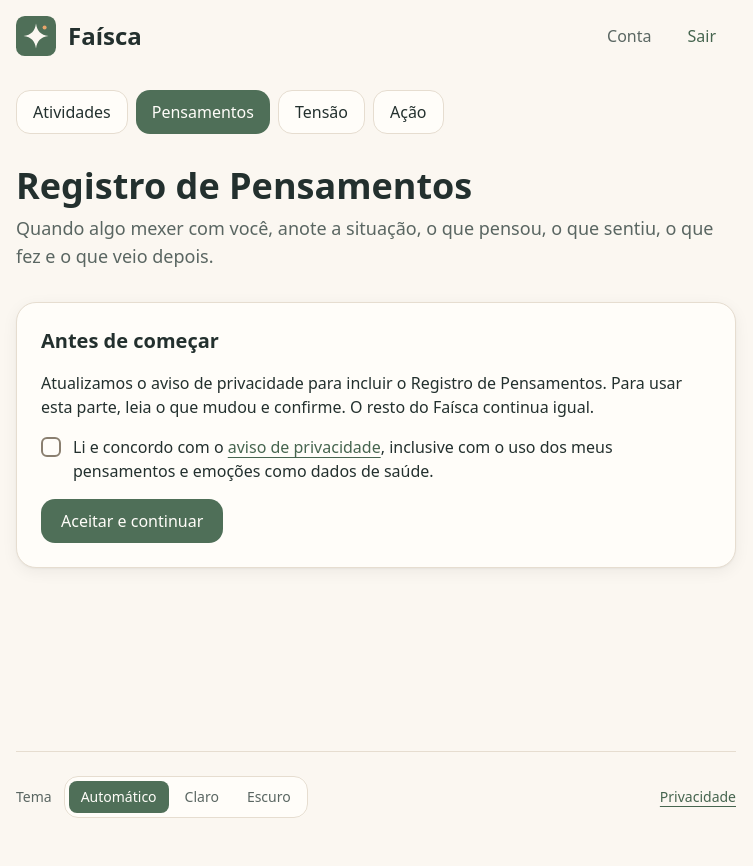
Test: novo aceite do aviso de privacidade (DEC-039) › sem marcar a caixa, não envia; marcando, aceita e libera a lista
Step 1. Click the button "Aceitar e continuar" → (132, 521), box x1=41 y1=499 x2=223 y2=543
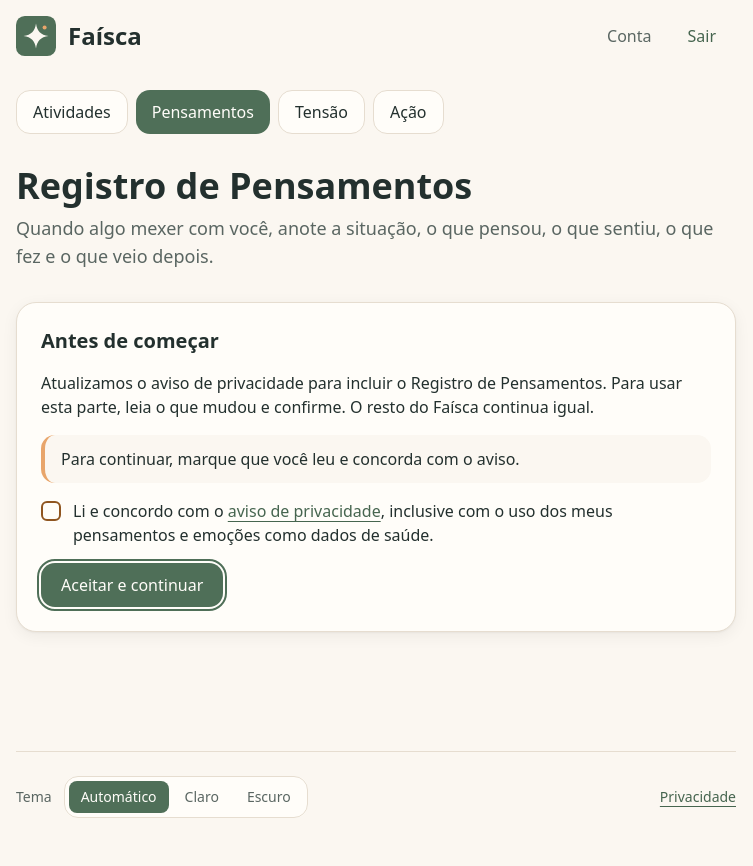
Expected: the text "Para continuar, marque que você leu e concorda com o aviso." is shown, x1=41 y1=435 x2=711 y2=483
Step 2. Click the checkbox → (51, 511), box x1=41 y1=501 x2=61 y2=521
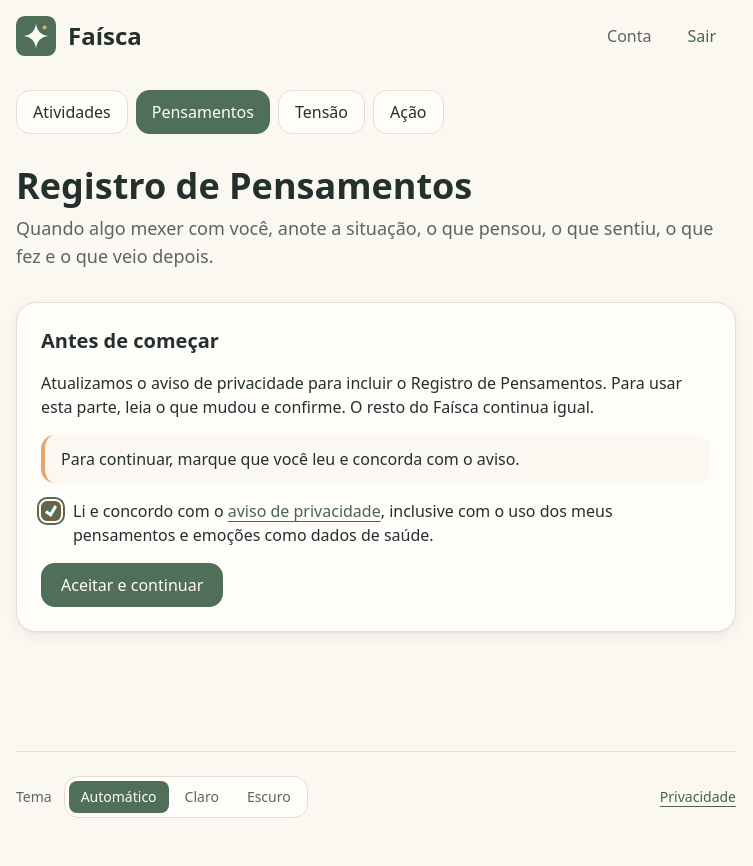
Step 3. Click the button "Aceitar e continuar" → (132, 585), box x1=41 y1=563 x2=223 y2=607
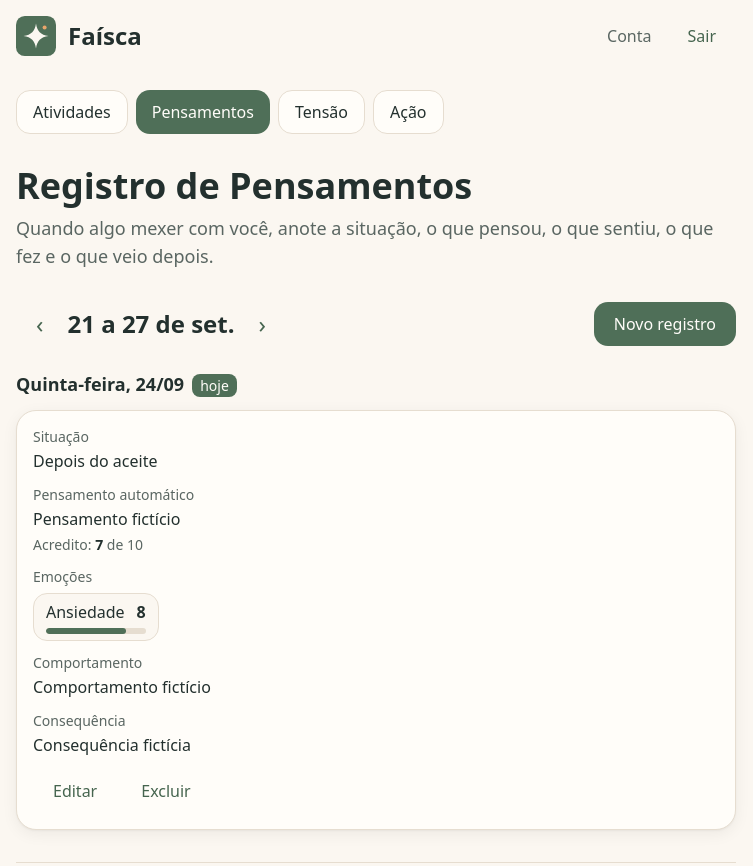
Expected: the element named "Registro: Depois do aceite" is shown, x1=16 y1=410 x2=736 y2=830
